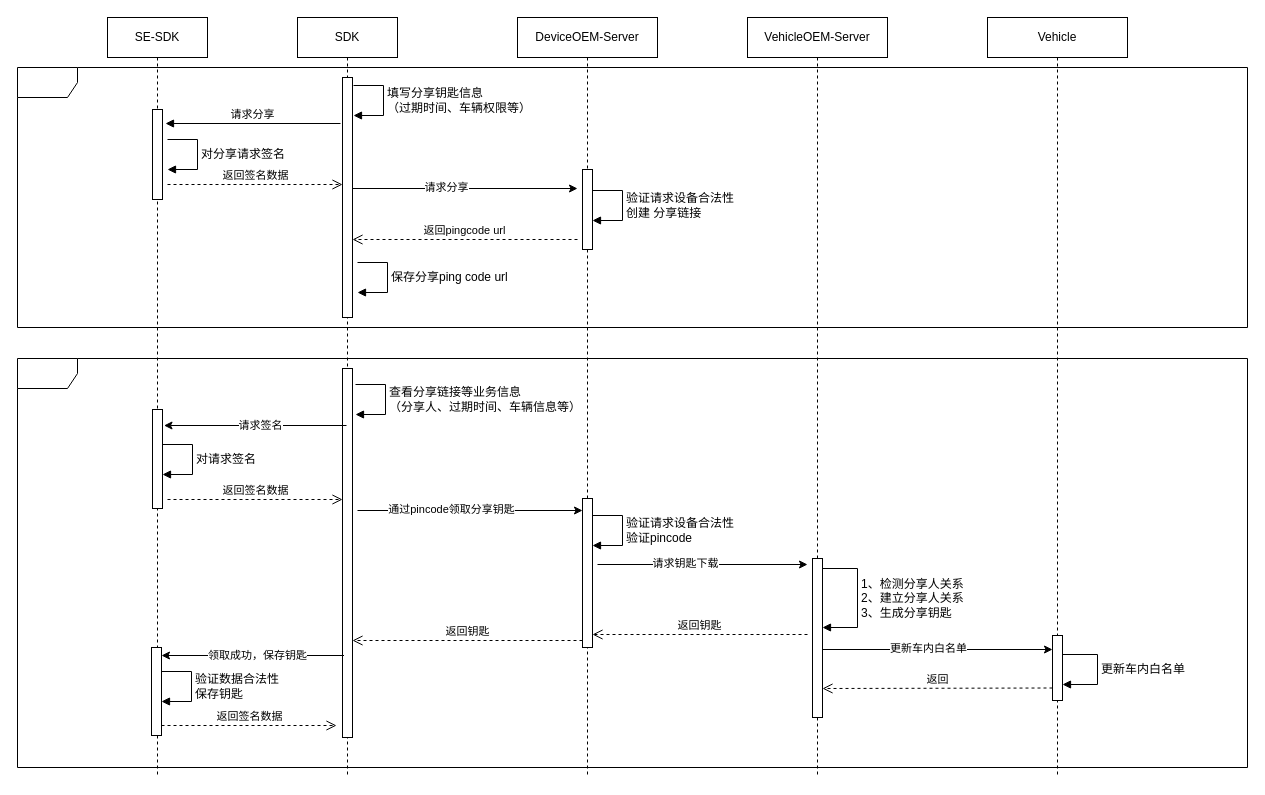
The diagram is 1265 pixels wide and 795 high, and some of its shapes have lost their labels. Here are the shapes that lost their labels. From the top down, the box of each, then its label:
(16, 66, 1248, 328): 分享流程
(16, 358, 1248, 768): 领取分享钥匙
